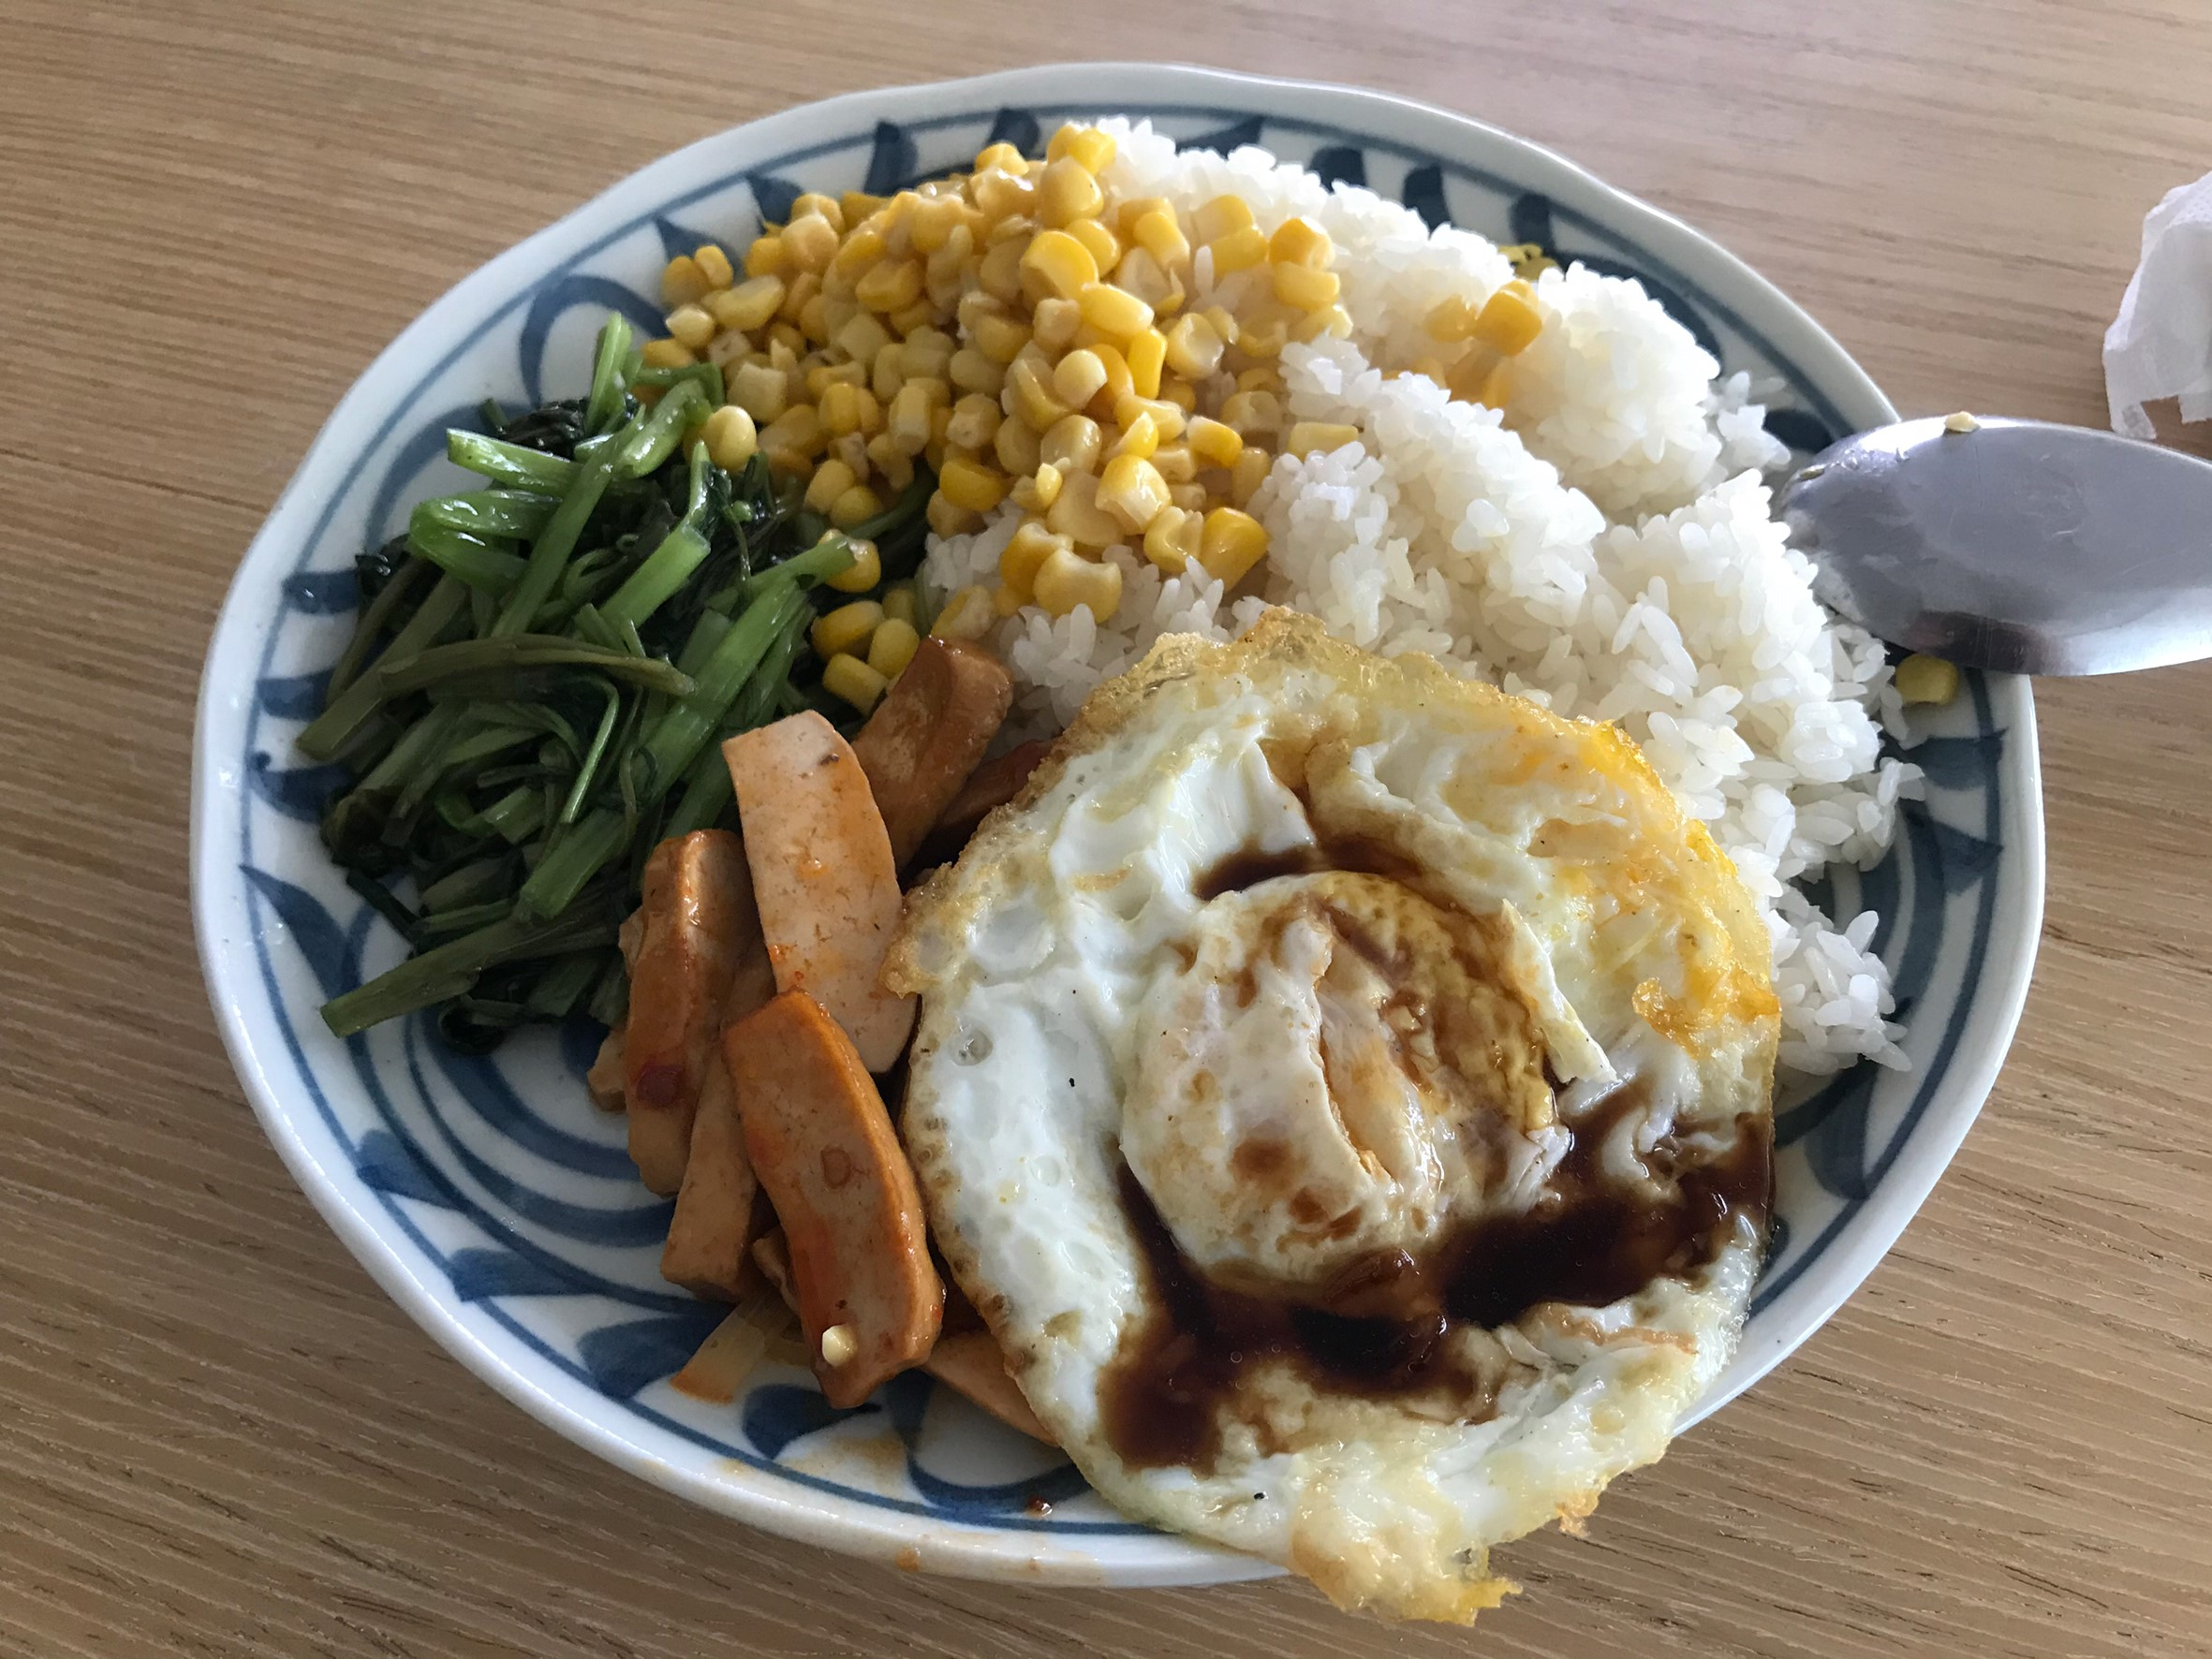fried_eggs: (910, 652, 1774, 1593)
rice: (1278, 260, 1787, 634)
water_spinach: (329, 338, 793, 990)
